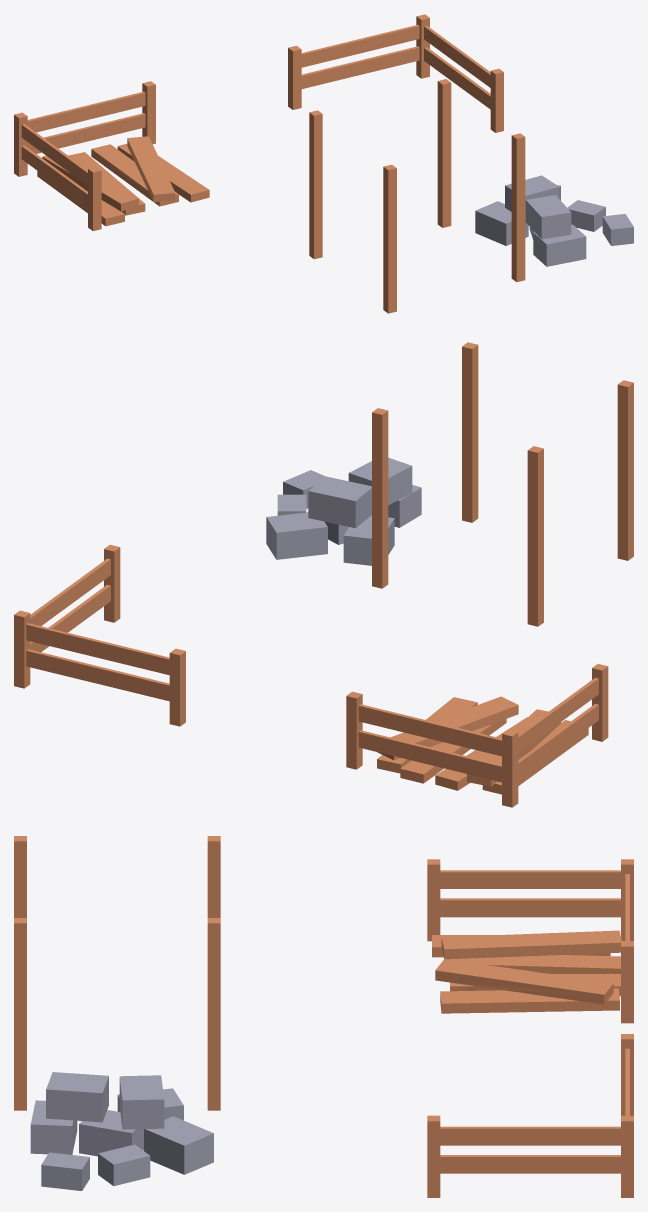
The model's file is Mine_construct.fbx.
3 views of the same model, one above another, from view 1: azimuth 30°, elevation 25°; view 2: azimuth 150°, elevation 25°; view 3: azimuth 270°, elevation 25° (orthographic). The views are drawn at different scales.
Visible parts, largest first — view 1: structure_poles_10, debris_bricks_12, debris_wood_15, fence_wood_6, fence_wood_7, fence_wood_8, fence_wood_9; view 2: structure_poles_10, debris_bricks_12, fence_wood_7, fence_wood_6, debris_wood_15, fence_wood_8, fence_wood_9; view 3: debris_bricks_12, debris_wood_15, fence_wood_9, fence_wood_8, structure_poles_10, fence_wood_7, fence_wood_6.
Part boxes in pixels (x1=…): structure_poles_10: x1=309, y1=79, x2=525, y2=313; debris_bricks_12: x1=475, y1=175, x2=633, y2=266; debris_wood_15: x1=37, y1=136, x2=209, y2=226; fence_wood_6: x1=288, y1=14, x2=429, y2=109; fence_wood_7: x1=14, y1=81, x2=155, y2=176; fence_wood_8: x1=14, y1=112, x2=101, y2=231; fence_wood_9: x1=416, y1=15, x2=503, y2=132; structure_poles_10: x1=372, y1=342, x2=633, y2=626; debris_bricks_12: x1=266, y1=457, x2=421, y2=565; fence_wood_7: x1=346, y1=691, x2=518, y2=807; fence_wood_6: x1=14, y1=610, x2=185, y2=726; debris_wood_15: x1=377, y1=696, x2=588, y2=794; fence_wood_8: x1=502, y1=664, x2=608, y2=807; fence_wood_9: x1=14, y1=544, x2=120, y2=688; debris_bricks_12: x1=30, y1=1072, x2=213, y2=1190; debris_wood_15: x1=432, y1=930, x2=621, y2=1013; fence_wood_9: x1=427, y1=1115, x2=633, y2=1197; fence_wood_8: x1=427, y1=859, x2=633, y2=941; structure_poles_10: x1=14, y1=836, x2=220, y2=1110; fence_wood_7: x1=621, y1=859, x2=633, y2=1023; fence_wood_6: x1=621, y1=1034, x2=633, y2=1197.
Bounding box in the file's own units: 30 × 10 × 30.
